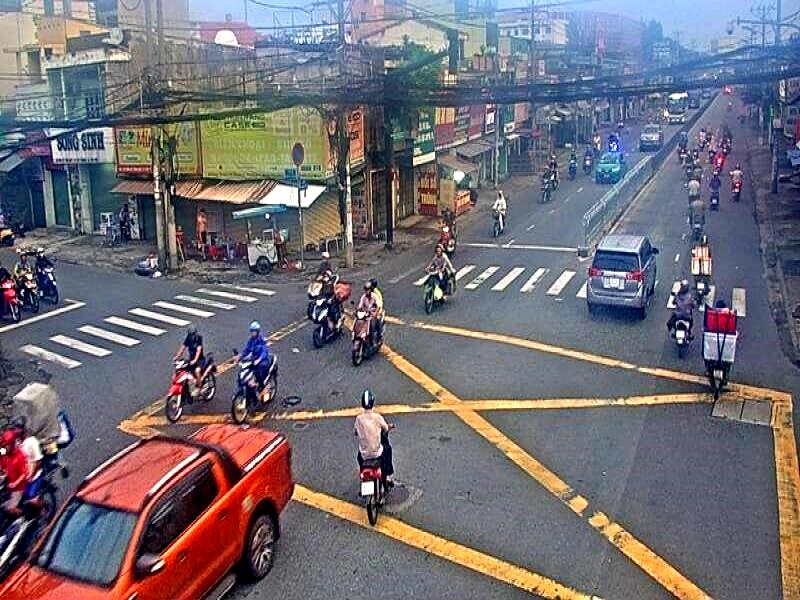car: (0, 409, 289, 600), (584, 224, 658, 334), (596, 146, 622, 188)
motorcycle: (224, 338, 293, 422), (341, 450, 404, 522), (299, 289, 343, 364), (168, 354, 224, 401), (352, 310, 386, 374)
